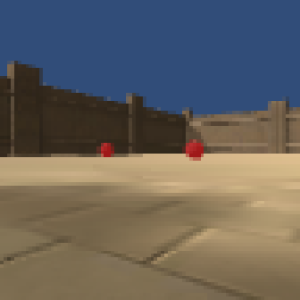badGoal: (182, 139, 204, 162), (97, 141, 115, 157)
